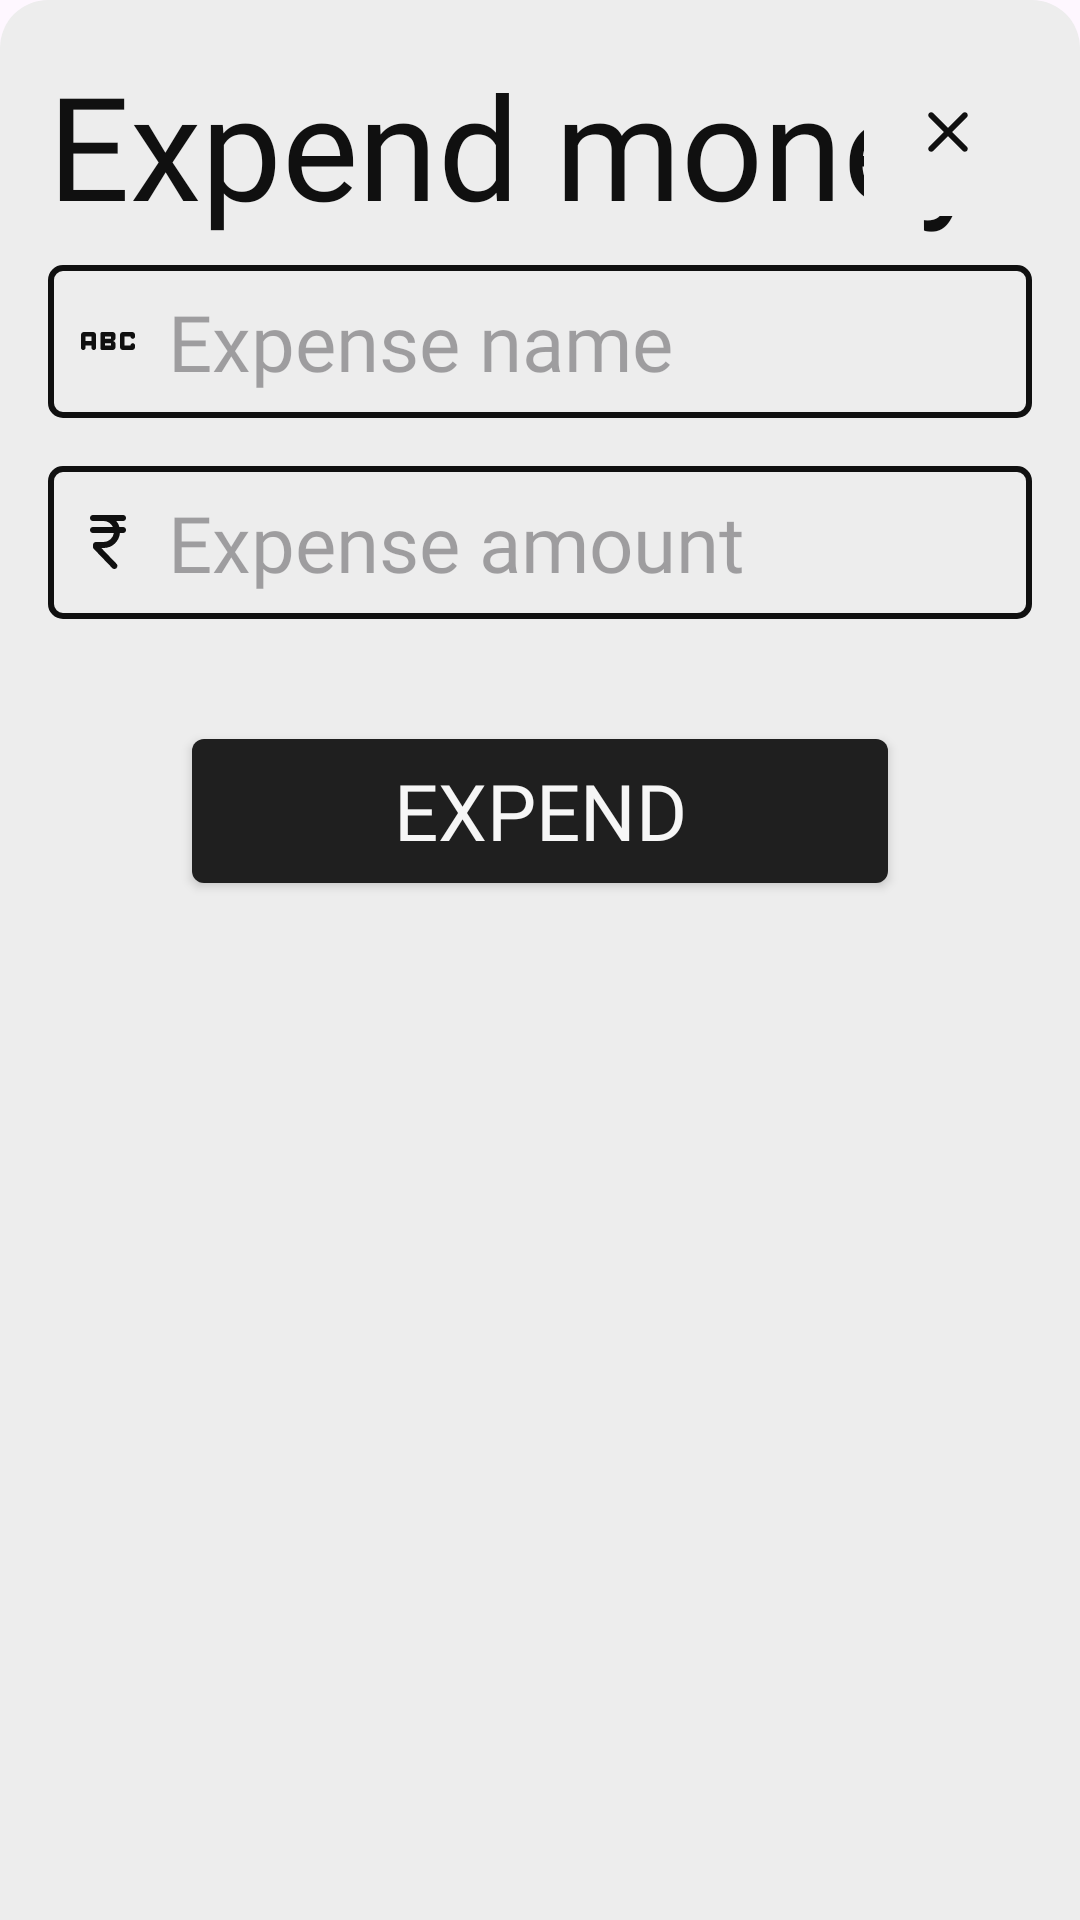

Icon bounding boxes for this 1080 × 1920 phone screenshot, format (x1, y1, x2, y2):
close: (928, 112, 968, 152)
